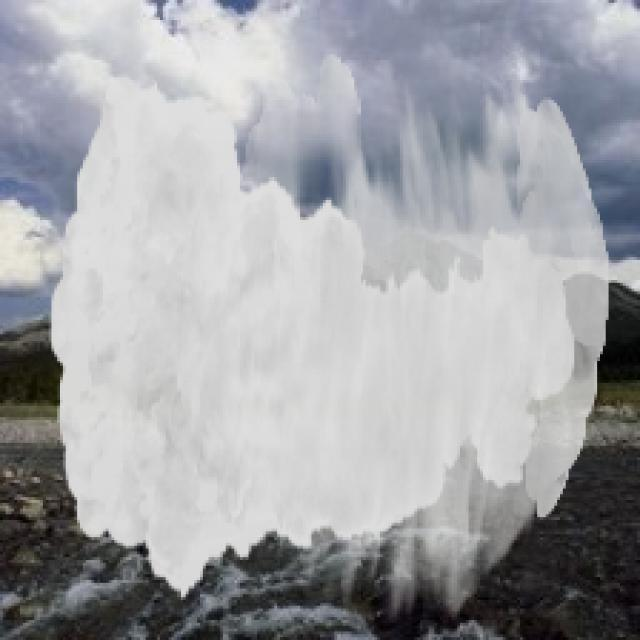Smoke: (49, 54, 608, 623)
